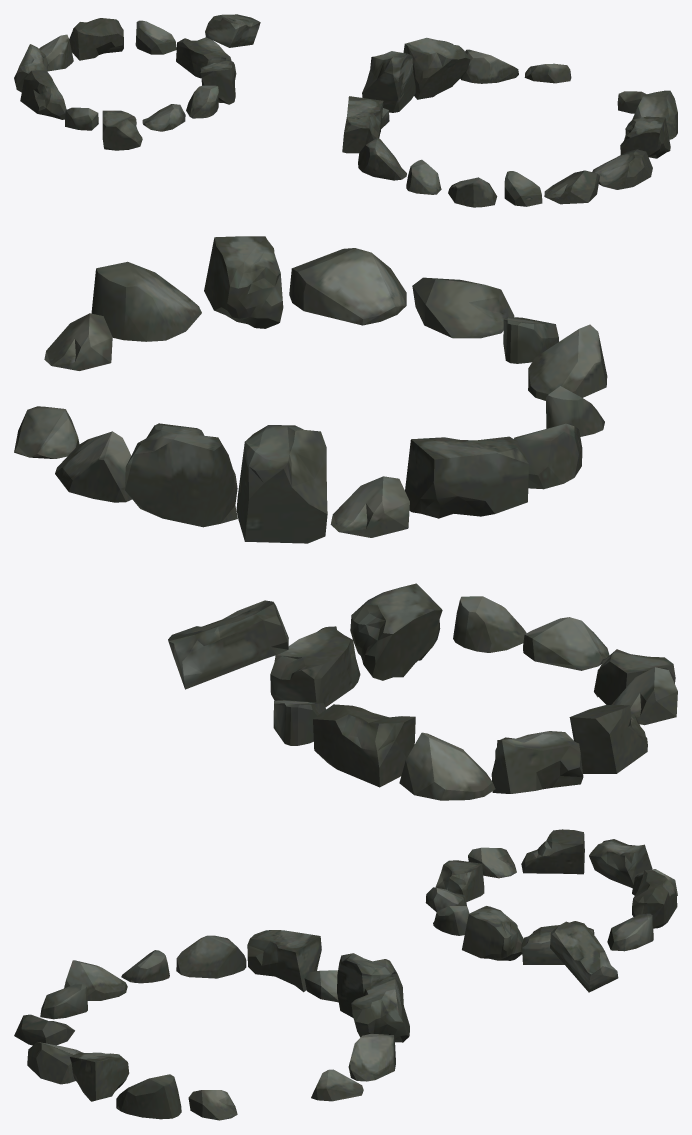
The model's file is crop_circle004.fbx.
The picture shows the model from 3 angles, top to bottom: view 1: azimuth 30°, elevation 25°; view 2: azimuth 150°, elevation 25°; view 3: azimuth 270°, elevation 25°; orthographic projection. The views are drawn at different scales.
Parts seen in each view (by area): view 1: crop_circle004; view 2: crop_circle004; view 3: crop_circle004.
Part boxes in pixels (left/top/right/bottom): crop_circle004: left=14, top=14, right=677, bottom=207; crop_circle004: left=14, top=236, right=677, bottom=800; crop_circle004: left=14, top=829, right=677, bottom=1120.
Bounding box in the file's own units: 36356 × 4702 × 38570.
